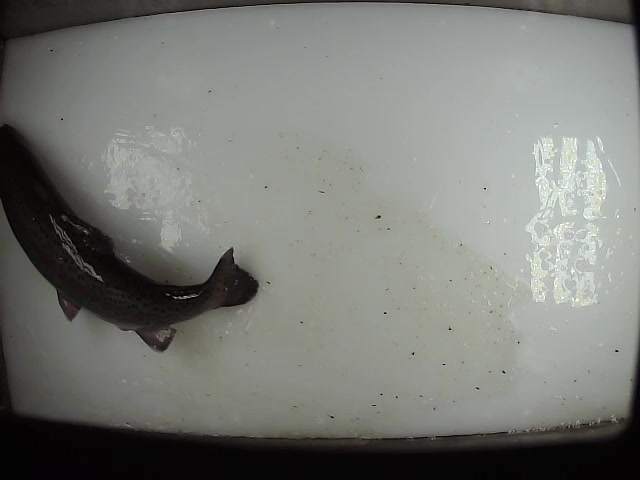fish: (1, 119, 260, 357)
